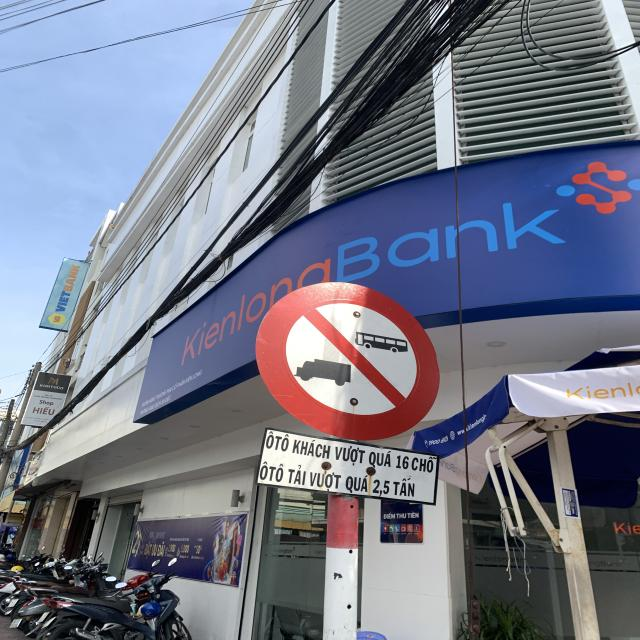Cam_XeTai_XeKhach: (255, 283, 442, 439)
